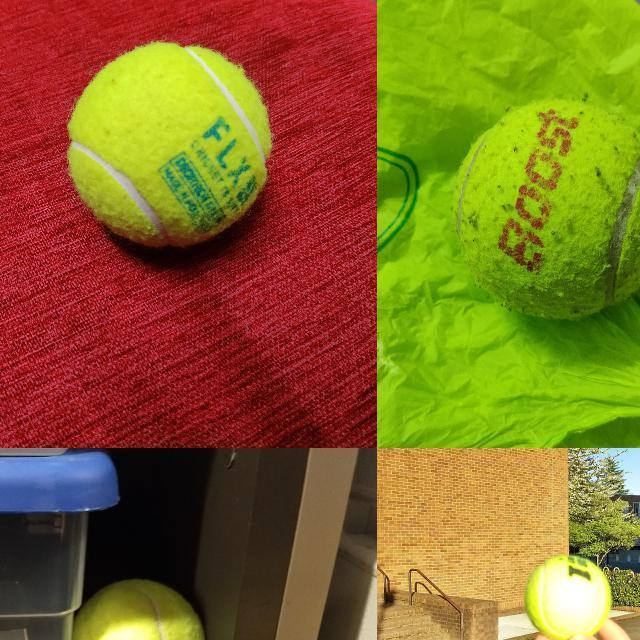tennis-ball: (67, 41, 273, 248), (451, 98, 639, 318), (522, 553, 613, 639), (83, 577, 207, 639)
